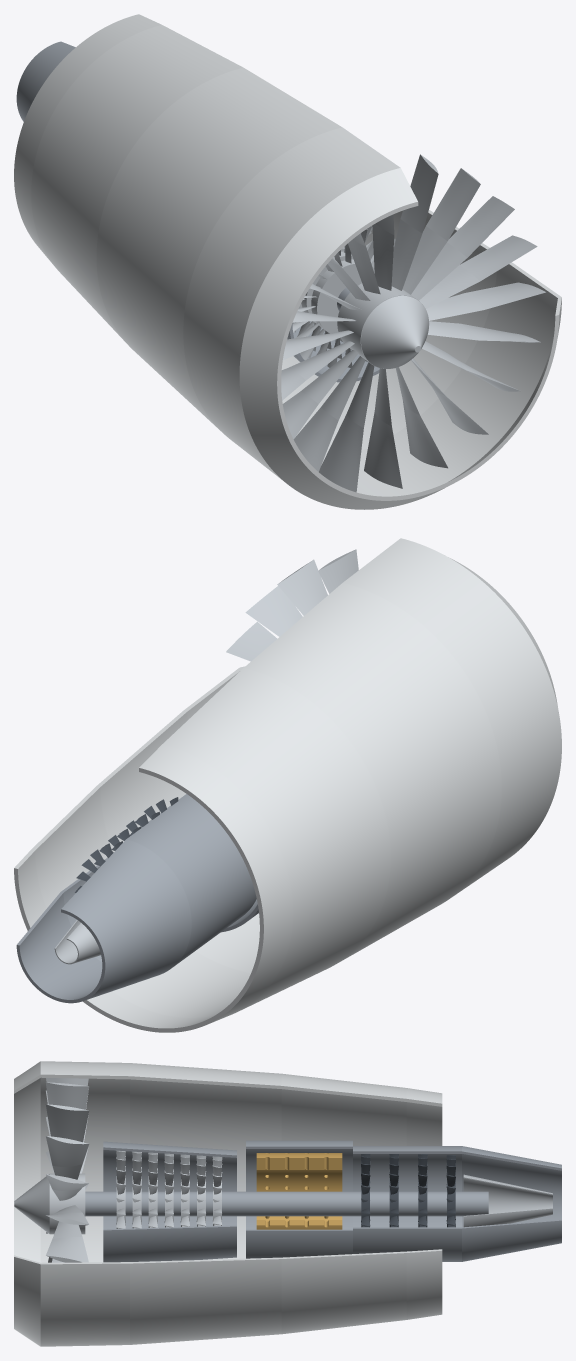
File: turbofan-cutaway.glb
The picture shows the model from 3 angles, top to bottom: view 1: azimuth 30°, elevation 25°; view 2: azimuth 150°, elevation 25°; view 3: azimuth 270°, elevation 25°; orthographic projection. The views are drawn at different scales.
Parts seen in each view (by area): view 1: Nacelle, Fan_20_blades, Spinner, Compressor_rotor_1, Core_nozzle, Compressor_case, Compressor_rotor_2; view 2: Nacelle, Core_nozzle, Turbine_case, Fan_20_blades, Tail_cone; view 3: Nacelle, Compressor_case, Inner_shaft, Turbine_case, Fan_20_blades, Core_nozzle, Combustor_case, Perforated_combustor_liner, Tail_cone, Spinner, Compressor_rotor_1, Compressor_rotor_2 (+9 smaller).
Boxes of the visible parts, x1,y1,x2,y2 form: Nacelle: (14,14,561,509); Fan_20_blades: (281,154,545,492); Spinner: (361,295,428,368); Compressor_rotor_1: (292,229,395,367); Core_nozzle: (16,41,75,121); Compressor_case: (287,321,379,382); Compressor_rotor_2: (293,226,394,358); Nacelle: (14,538,561,1032); Core_nozzle: (16,839,191,1003); Turbine_case: (61,794,256,966); Fan_20_blades: (226,549,358,661); Tail_cone: (54,920,100,964); Nacelle: (14,1061,442,1346); Compressor_case: (103,1141,236,1262); Inner_shaft: (85,1191,488,1216); Turbine_case: (353,1146,461,1261); Fan_20_blades: (45,1078,89,1262); Core_nozzle: (462,1146,561,1261); Combustor_case: (246,1140,352,1258); Perforated_combustor_liner: (256,1153,342,1229); Tail_cone: (463,1174,552,1227); Spinner: (14,1174,49,1233); Compressor_rotor_1: (116,1150,125,1228); Compressor_rotor_2: (132,1151,141,1228).
Size of the model in its own units: 1.6 by 1.6 by 3.07.
